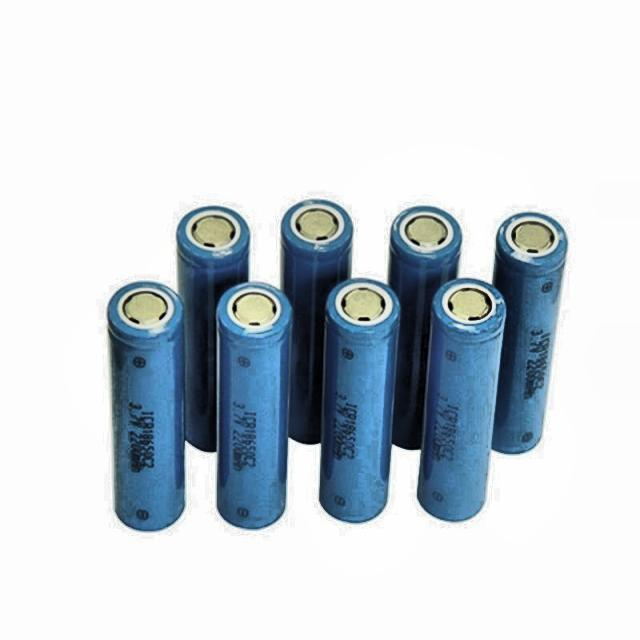Non-Valuable Waste - Batteries: (418, 279, 506, 521), (320, 279, 400, 521), (108, 281, 185, 531), (216, 283, 292, 528), (492, 212, 568, 454), (389, 205, 462, 448), (178, 207, 250, 451), (281, 200, 352, 443)
